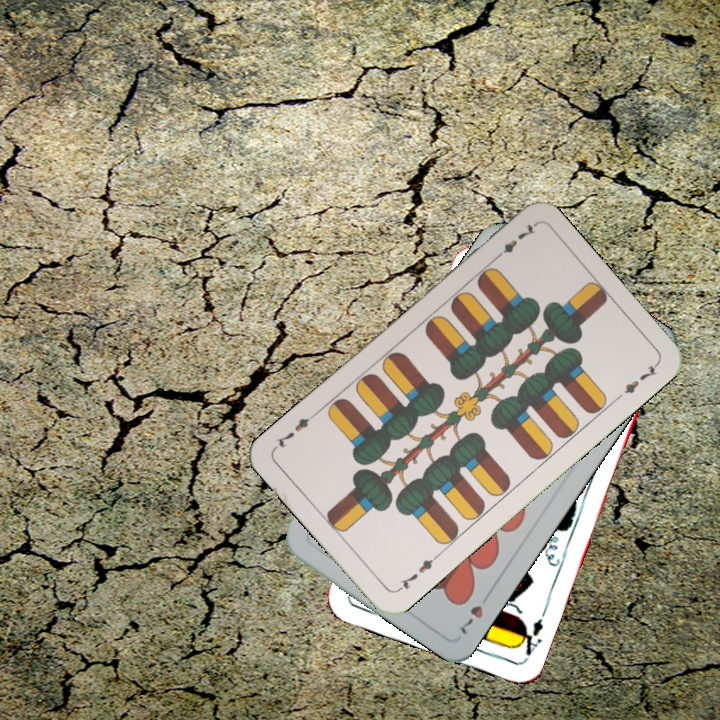E7: (489, 219, 539, 264), (393, 551, 442, 594)
EA: (513, 606, 549, 659)
H7: (455, 587, 494, 638)
